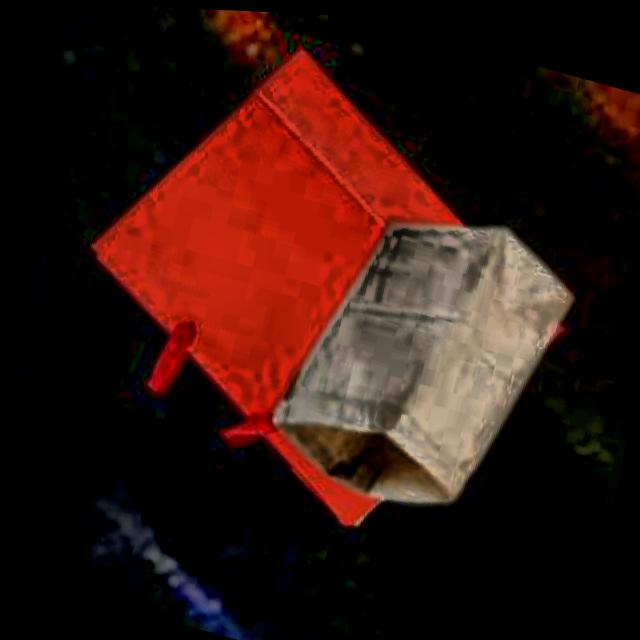Paper-bag: (31, 3, 607, 584), (268, 163, 590, 530)
